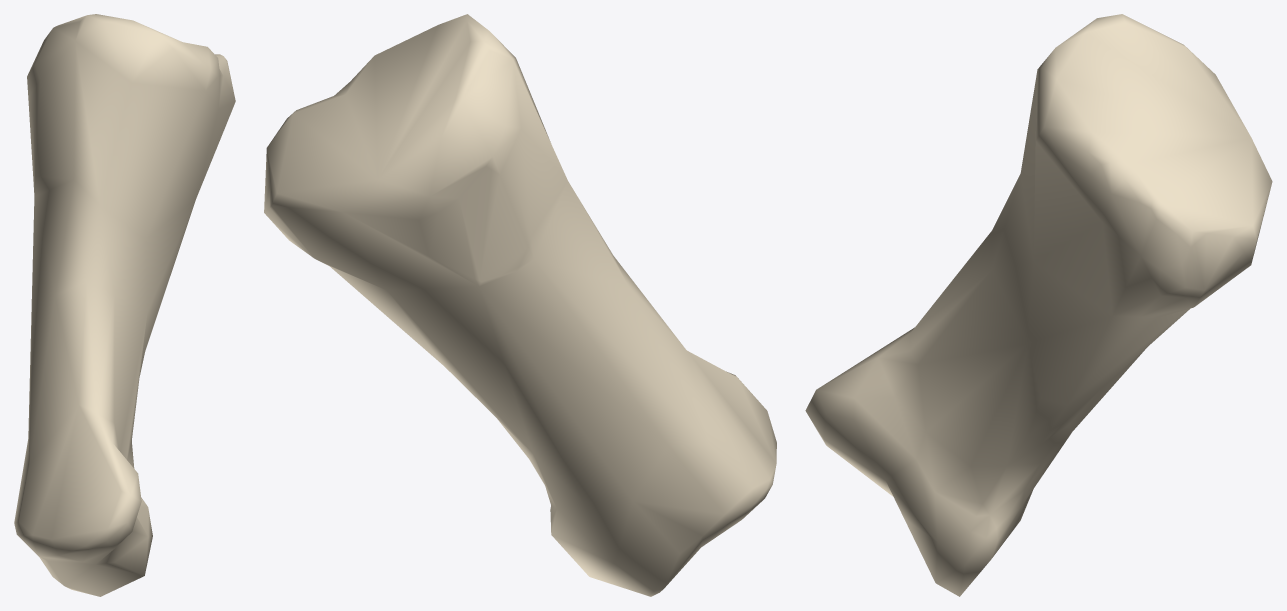
Rendered from proximal-phalanx-of-first-finger-of-hand-r.glb.
3 views of the same model, side by side, from view 1: azimuth 30°, elevation 25°; view 2: azimuth 150°, elevation 25°; view 3: azimuth 270°, elevation 25° (orthographic). The views are drawn at different scales.
Parts seen in each view (by area): view 1: Proximal phalanx of first finger of hand.r; view 2: Proximal phalanx of first finger of hand.r; view 3: Proximal phalanx of first finger of hand.r.
Boxes of the visible parts, box(x1,y1,x2,y2) form: Proximal phalanx of first finger of hand.r: box(14, 14, 235, 596); Proximal phalanx of first finger of hand.r: box(264, 14, 776, 596); Proximal phalanx of first finger of hand.r: box(805, 14, 1272, 596).
Bounding box in the file's own units: 0.0209 × 0.0325 × 0.023.
